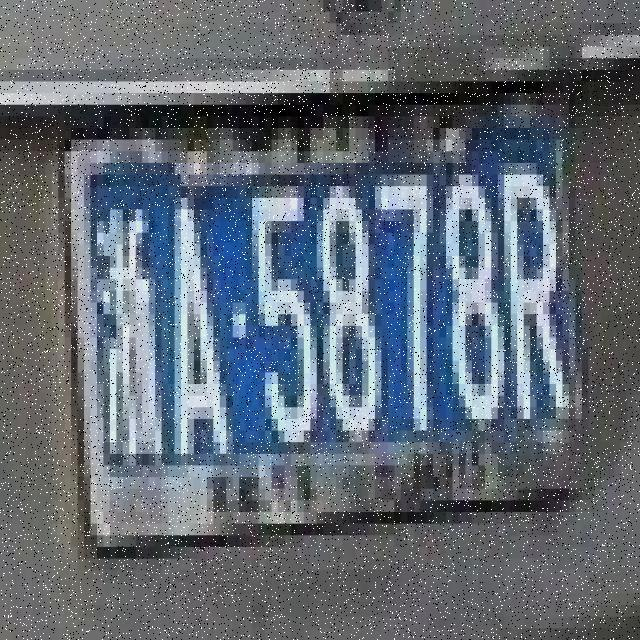LicensePlate: (63, 90, 594, 552)
